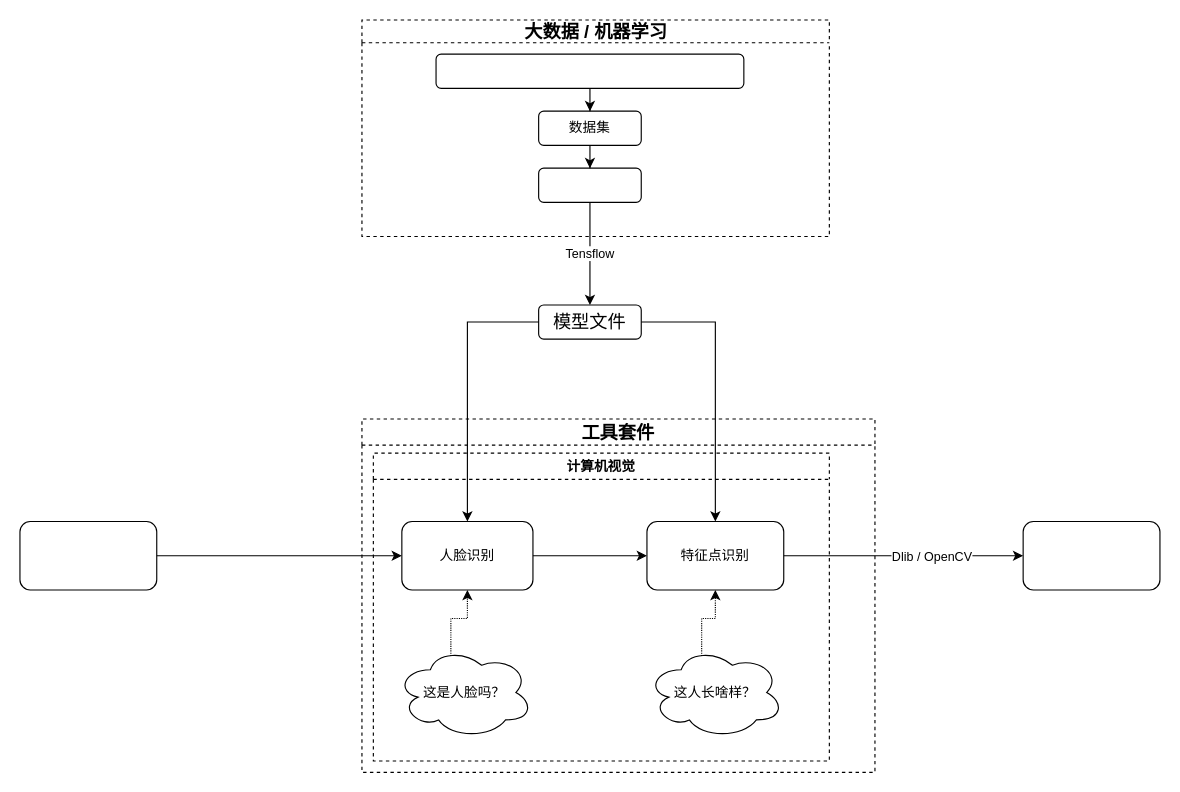
The diagram is 1180 pixels wide and 792 high, and some of its shapes have lost their labels. The centre of each missing label's shape, as x and y in pixels:
"原始数据（海量文字，图片，视频...）" belongs at (589,70).
"算法" belongs at (589,184).
"输入" belongs at (88,555).
"输出" belongs at (1091,555).
